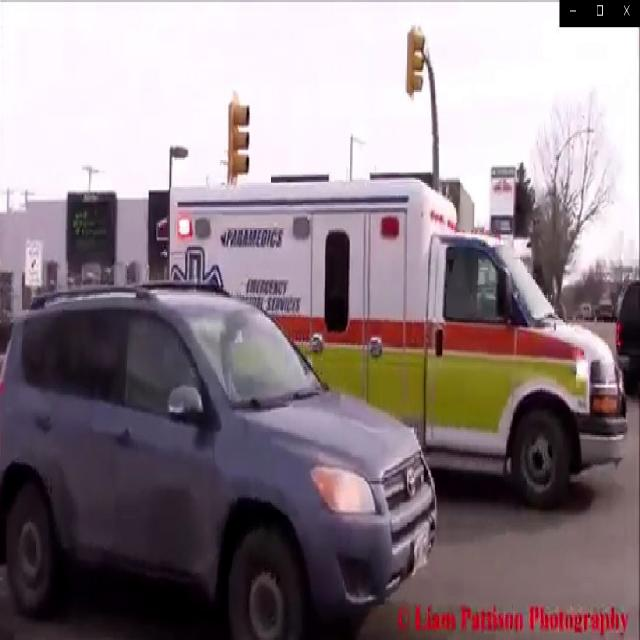emergency: (166, 180, 630, 520)
